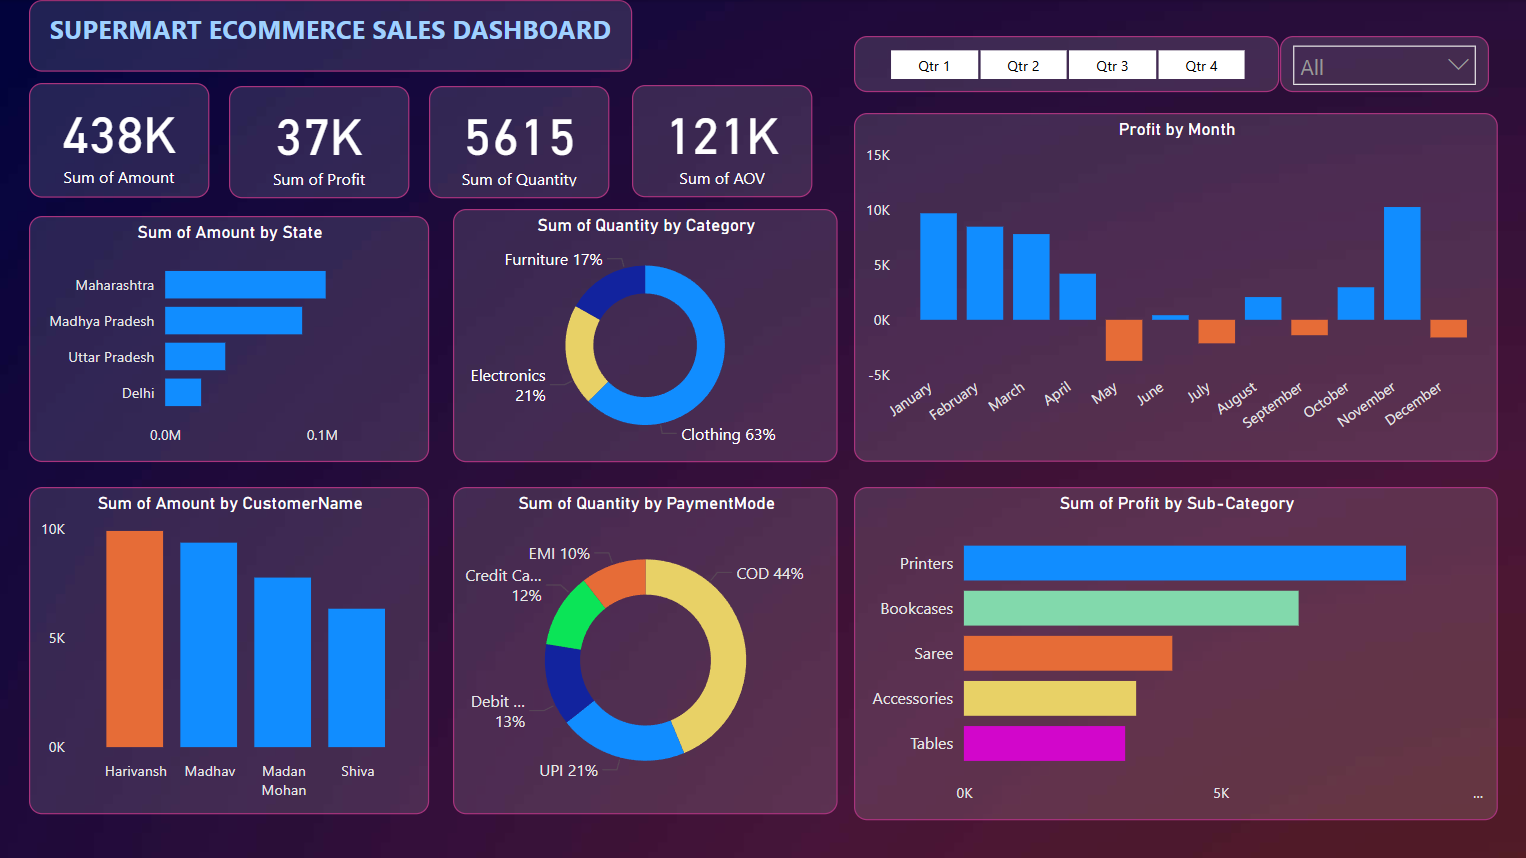

Layout of this report page (visuals, bound fields, positions):
{"tool":"powerbi","page":{"name":"Page 1","canvas":[1280,720],"ordinal":0},"visuals":[{"type":"textbox","box":[25.1,0,504.8,60.3],"z":0},{"type":"columnChart","title":"Profit by Month","fields":{"Y":["Details.Profit"],"Category":["Orders.Order Date.Variation.Date Hierarchy.Month"]},"box":[715.8,94.6,539.2,292.2],"z":1000},{"type":"barChart","fields":{"Category":["Details.Sub-Category"],"Y":["Details.Profit"]},"box":[715.9,408,539.1,279.5],"z":2000},{"type":"donutChart","fields":{"Y":["Details.Quantity"],"Category":["Details.Category"]},"box":[380.4,175.1,321.7,212.2],"z":3000},{"type":"donutChart","fields":{"Y":["Details.Quantity"],"Category":["Details.PaymentMode"]},"box":[380.1,407.7,322.3,273.8],"z":4000},{"type":"card","fields":{"Values":["Details.Amount"]},"box":[25.1,69.5,150.7,96.3],"z":5000},{"type":"card","fields":{"Values":["Details.Quantity"]},"box":[360,72,150.7,93.8],"z":6000},{"type":"card","fields":{"Values":["Details.Profit"]},"box":[192.6,72,150.7,93.8],"z":7000},{"type":"card","fields":{"Values":["Details.AOV"]},"box":[530,71.2,150.7,93.8],"z":8000},{"type":"barChart","fields":{"Category":["Orders.State"],"Y":["Details.Amount"]},"box":[25,181.1,334.7,206.1],"z":9000},{"type":"columnChart","fields":{"Category":["Orders.CustomerName"],"Y":["Details.Amount"]},"box":[25.1,407.7,334.9,273.8],"z":10000},{"type":"slicer","fields":{"Values":["Orders.Order Date.Variation.Date Hierarchy.Quarter"]},"box":[715.9,30.2,356.2,46.6],"z":11000},{"type":"slicer","fields":{"Values":["Orders.State"]},"box":[1072.1,30.2,175.1,46.6],"z":12000}]}

Visuals, with their boxes in screenshot pixels (x1, y1, x2, y2), scaled from the page's 1280x720 canvas onto the 1526x858 screenshot:
textbox: 30, 0, 632, 72
"Profit by Month" columnChart: 853, 113, 1496, 461
barChart - Details.Sub-Category x Details.Profit: 853, 486, 1496, 819
donutChart - Details.Quantity x Details.Category: 454, 209, 837, 462
donutChart - Details.Quantity x Details.PaymentMode: 453, 486, 837, 812
card - Details.Amount: 30, 83, 210, 198
card - Details.Quantity: 429, 86, 609, 198
card - Details.Profit: 230, 86, 409, 198
card - Details.AOV: 632, 85, 812, 197
barChart - Orders.State x Details.Amount: 30, 216, 429, 461
columnChart - Orders.CustomerName x Details.Amount: 30, 486, 429, 812
slicer - Orders.Order Date.Variation.Date Hierarchy.Quarter: 853, 36, 1278, 92
slicer - Orders.State: 1278, 36, 1487, 92
